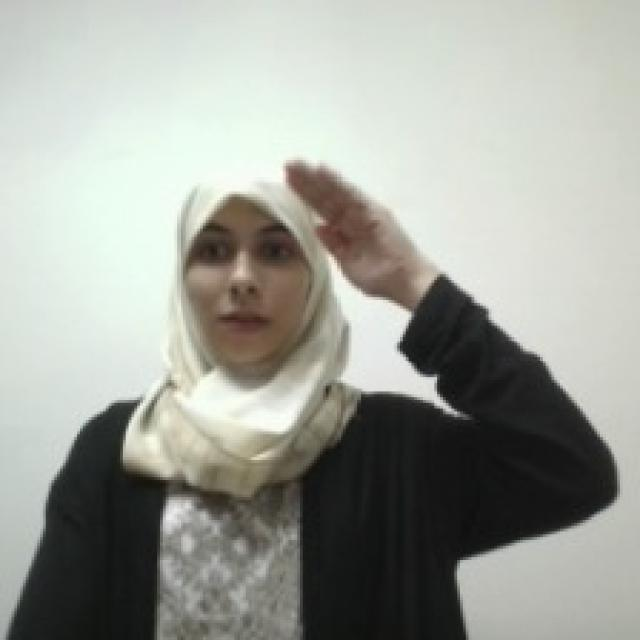Thanks: (281, 150, 415, 295)
